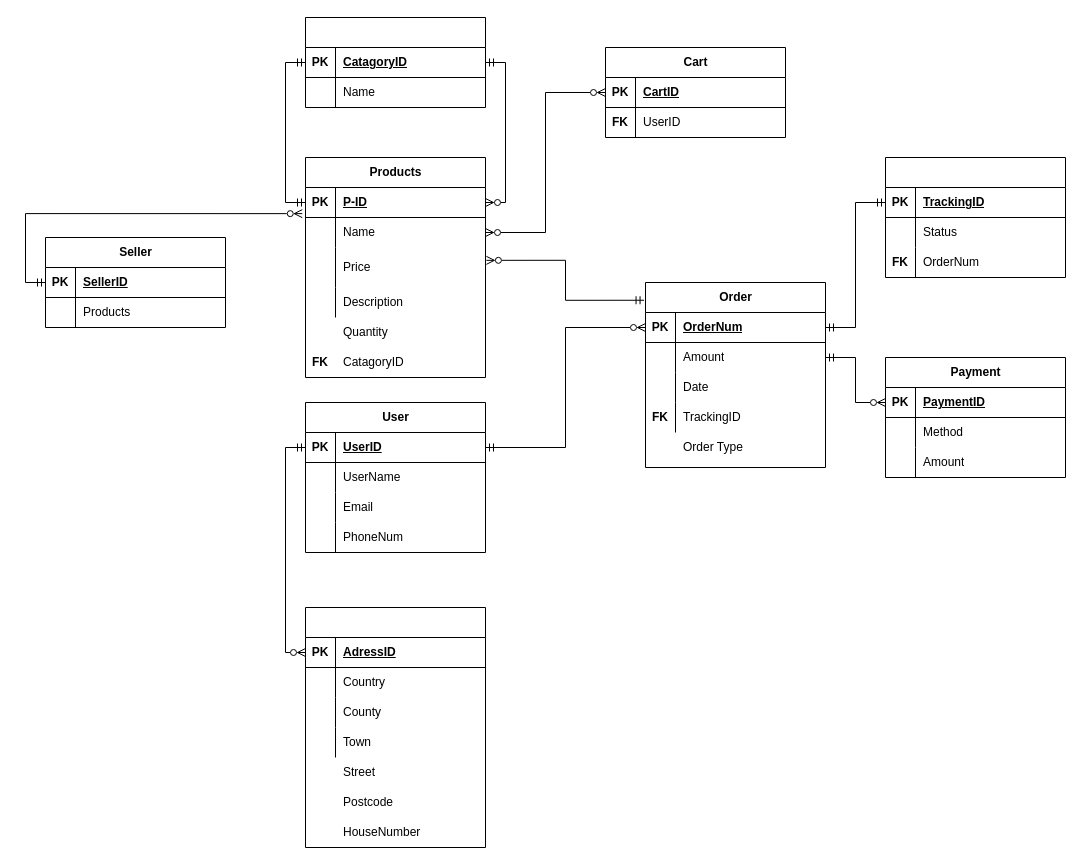
Image size: 1083x865. Some labels were removed from this diagram. The shapes that lost their labels are listed below. From the top down, each one's box as (x1, y1, x2, y2) in pixels, then its label:
(304, 16, 486, 108): Category
(884, 156, 1066, 278): Tracking details
(304, 606, 486, 848): Adresses
